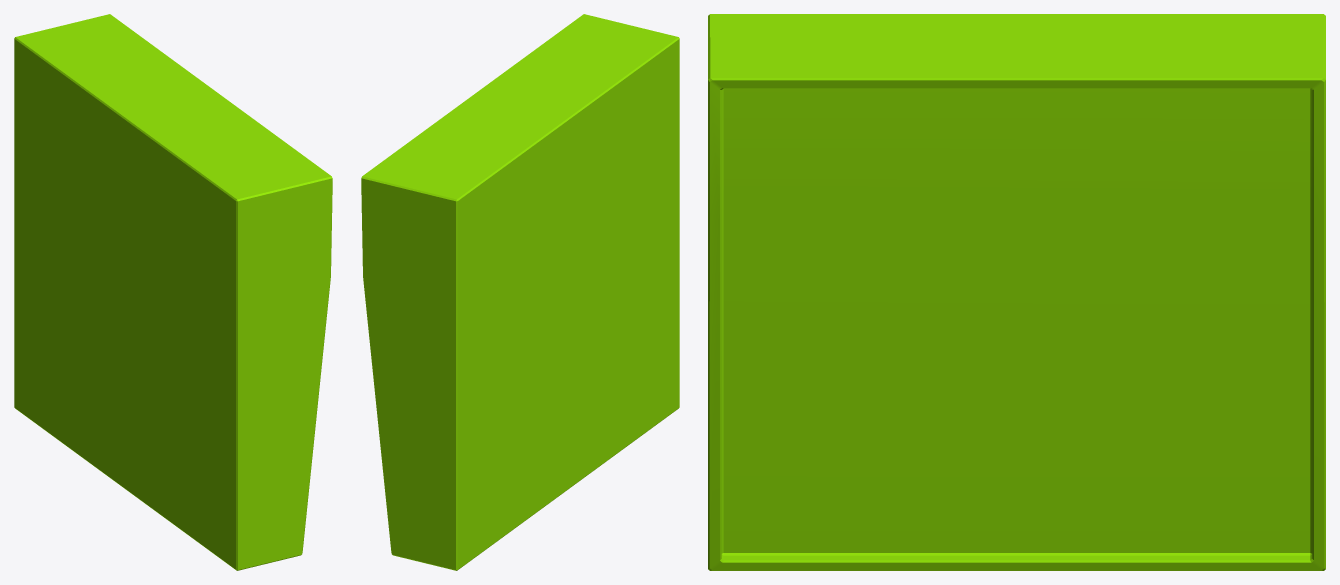
File: Wide_BackBox_Box.fbx
3 views of the same model, side by side, from view 1: azimuth 30°, elevation 25°; view 2: azimuth 150°, elevation 25°; view 3: azimuth 270°, elevation 25° (orthographic). The views are drawn at different scales.
Visible parts, largest first — view 1: Wide_BackBox_Box; view 2: Wide_BackBox_Box; view 3: Wide_BackBox_Box.
Boxes of the visible parts, x1=… form: Wide_BackBox_Box: x1=14, y1=14, x2=332, y2=570; Wide_BackBox_Box: x1=361, y1=14, x2=679, y2=570; Wide_BackBox_Box: x1=708, y1=14, x2=1325, y2=570.
Size of the model in its own units: 19.19 by 70.43 by 76.76.
